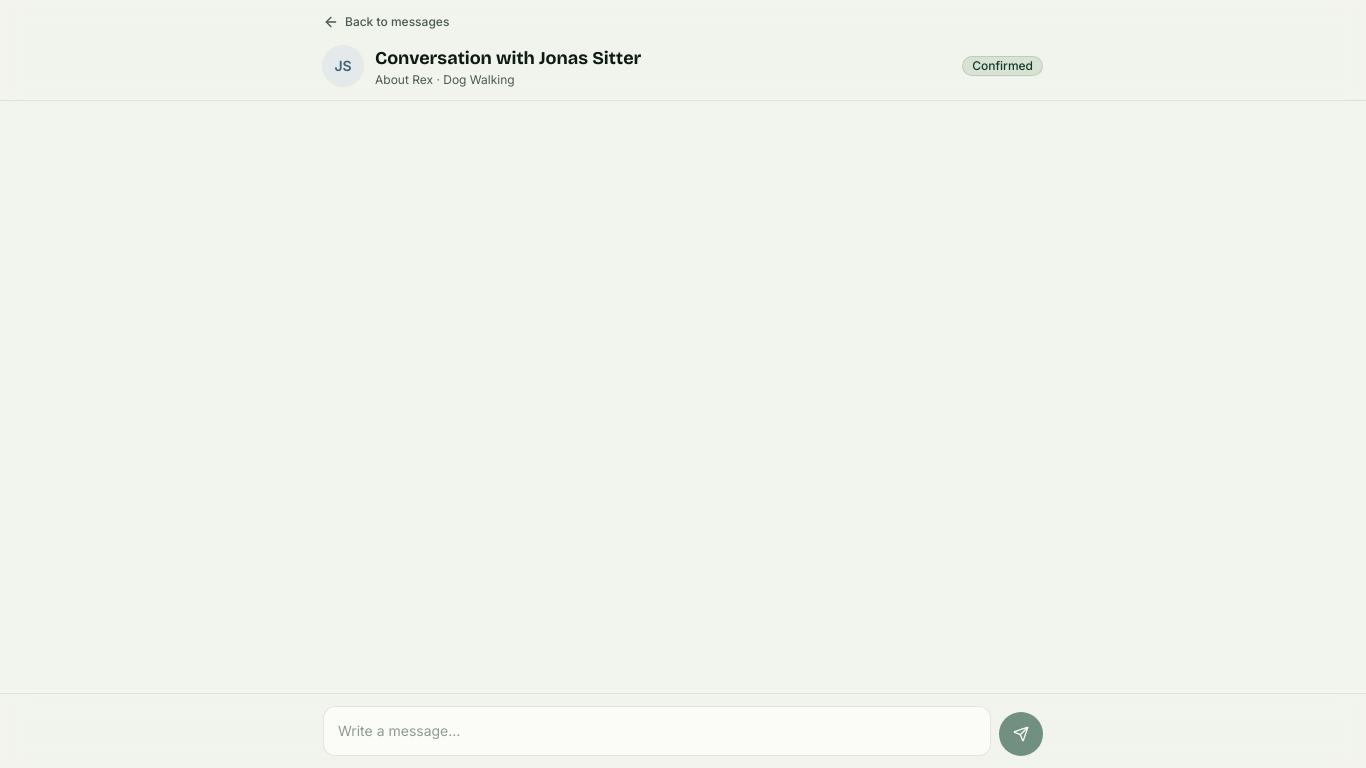
Test case: sending › rolls the message back and restores the draft when the insert fails
The image size is (1366, 768).
In the text box: (657, 731) [323, 706, 991, 756], type "will fail"
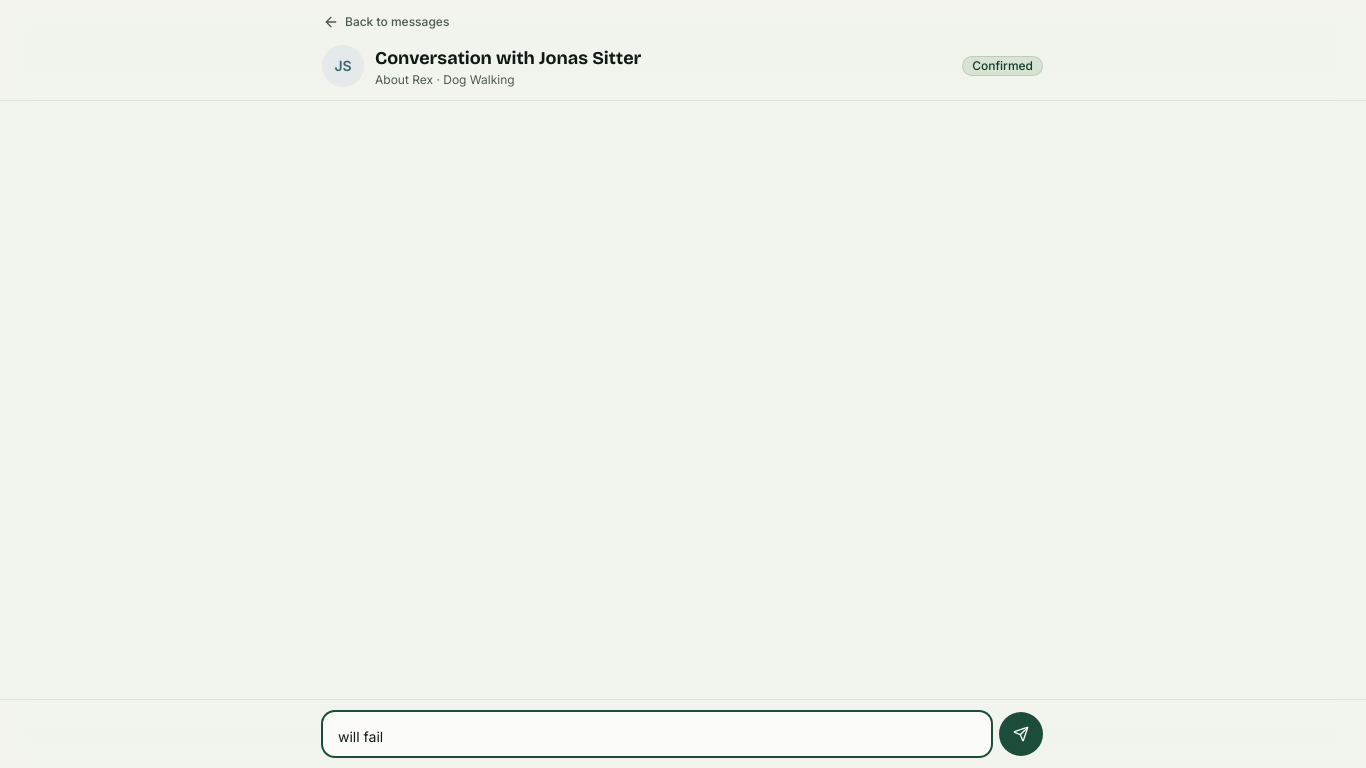
Click the button named "send": (1021, 734) [999, 712, 1043, 756]
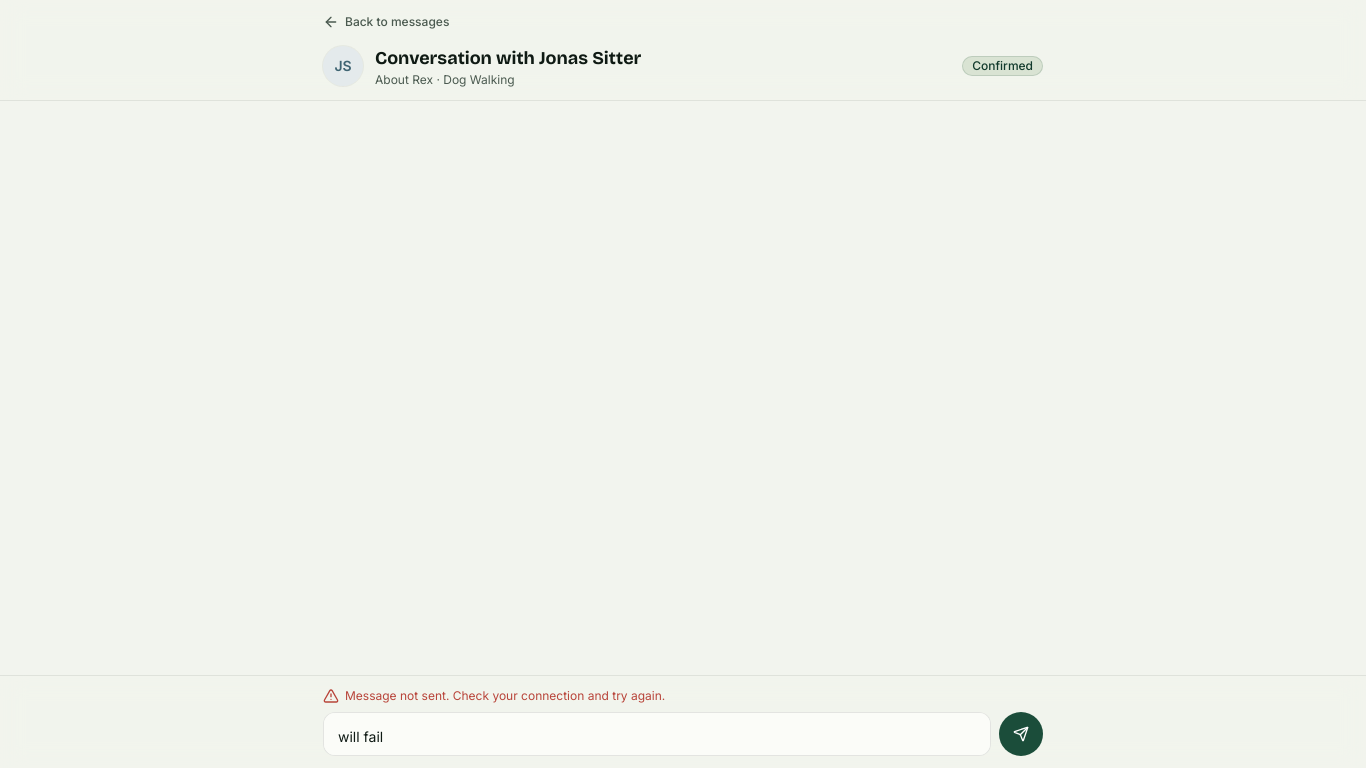
Now the text "Message not sent. Check your connection and try again." is shown, box [323, 688, 665, 704]
